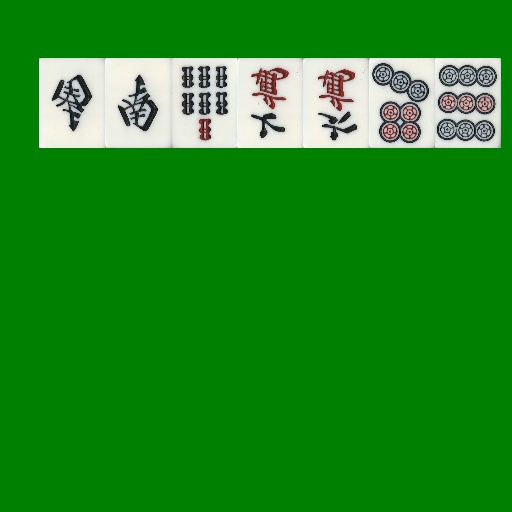6m: (303, 58, 369, 148)
7m: (237, 58, 303, 148)
7p: (369, 58, 435, 148)
7s: (171, 58, 237, 148)
9p: (435, 58, 501, 148)
south: (39, 58, 105, 148), (105, 58, 171, 148)
